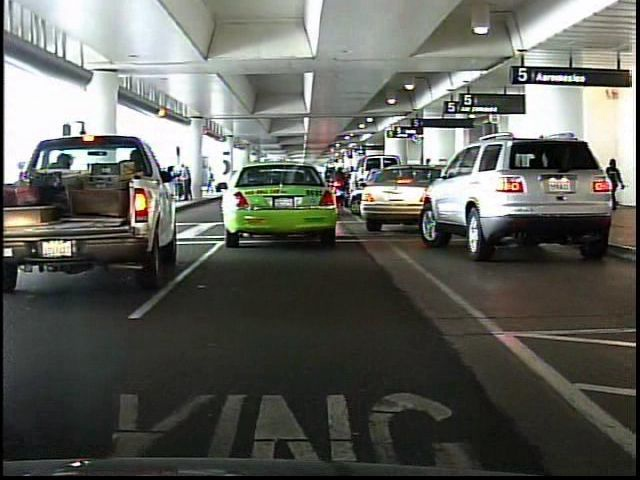person: (608, 157, 625, 198)
